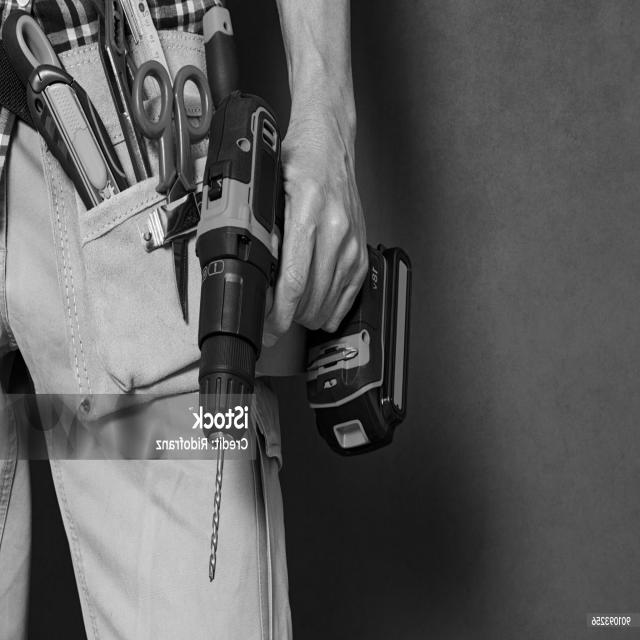corless_drill: (168, 76, 423, 626)
scissors: (112, 48, 219, 318)
screwdriver: (192, 0, 251, 90)
utility_knife: (0, 7, 137, 229)
